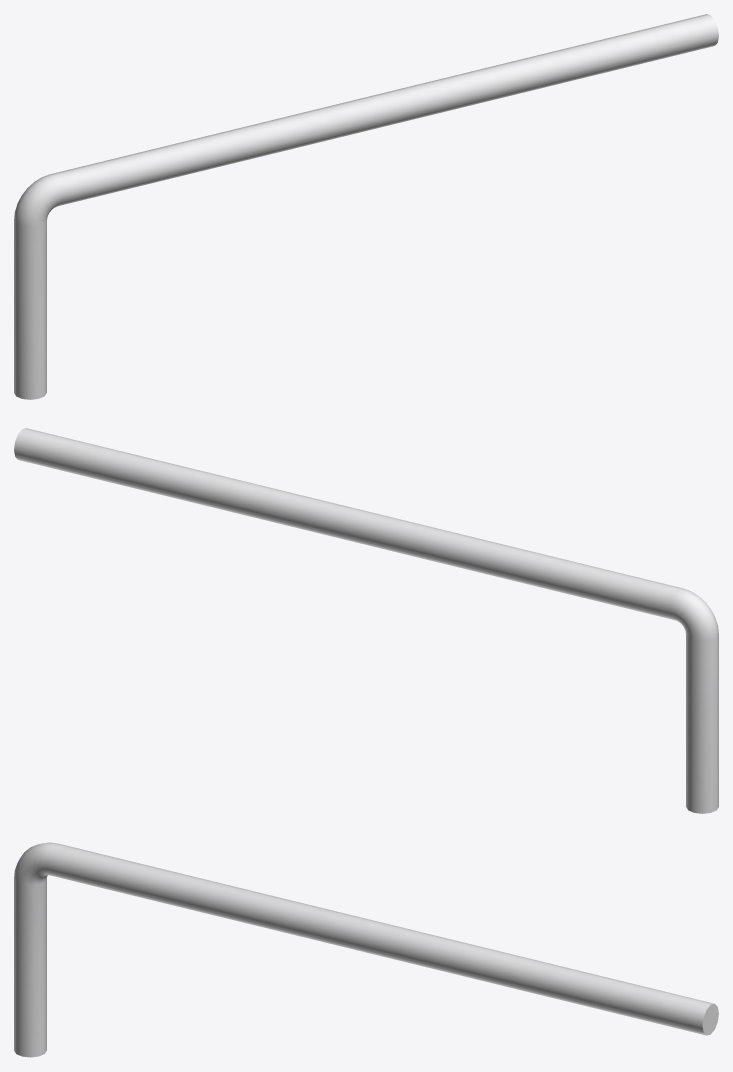
The model's file is Guan.fbx.
The picture shows the model from 3 angles, top to bottom: view 1: azimuth 30°, elevation 25°; view 2: azimuth 150°, elevation 25°; view 3: azimuth 330°, elevation 25°; orthographic projection.
Visible parts, largest first — view 1: guan; view 2: guan; view 3: guan.
Boxes of the visible parts, x1=… form: guan: x1=14, y1=14, x2=718, y2=399; guan: x1=14, y1=428, x2=718, y2=813; guan: x1=14, y1=842, x2=718, y2=1057.
Bounding box in the file's own units: 29.24 × 8.52 × 1.2.
